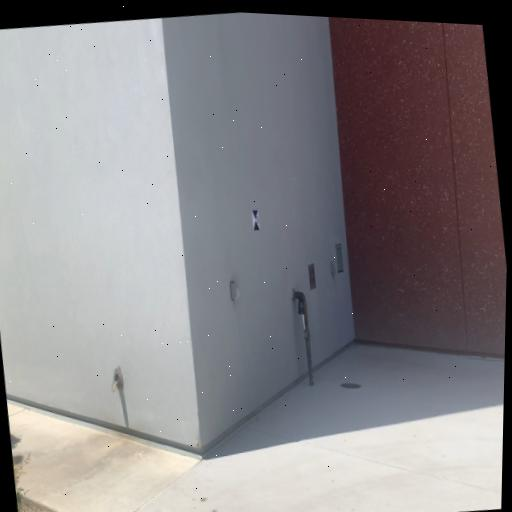target5: (251, 207, 261, 232)
